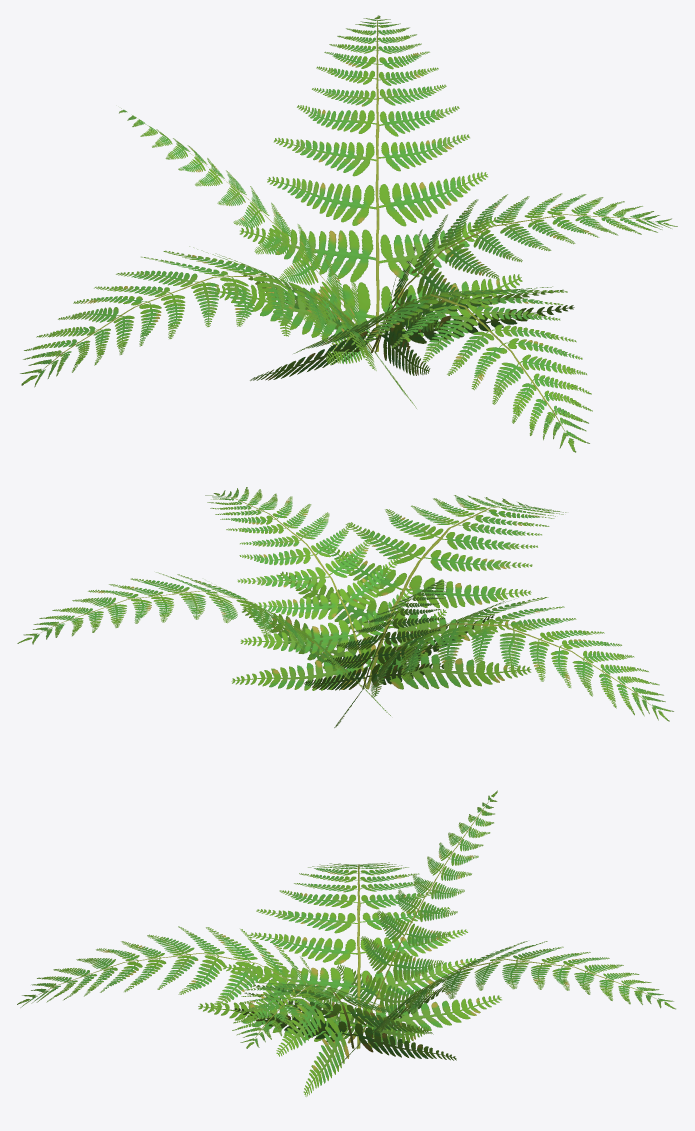
Rendered from SM_Fern_Big_One_LODS 1.fbx.
3 views of the same model, one above another, from view 1: azimuth 30°, elevation 25°; view 2: azimuth 150°, elevation 25°; view 3: azimuth 270°, elevation 25° (orthographic). The views are drawn at different scales.
Visible parts, largest first — view 1: BUSH_LOD0; view 2: BUSH_LOD0; view 3: BUSH_LOD0.
Boxes of the visible parts, x1,y1,x2,y2 form: BUSH_LOD0: (20, 15, 677, 452); BUSH_LOD0: (17, 487, 673, 727); BUSH_LOD0: (17, 790, 675, 1096).
Size of what is drawn, in the model's own units: 299 by 113 by 353.
